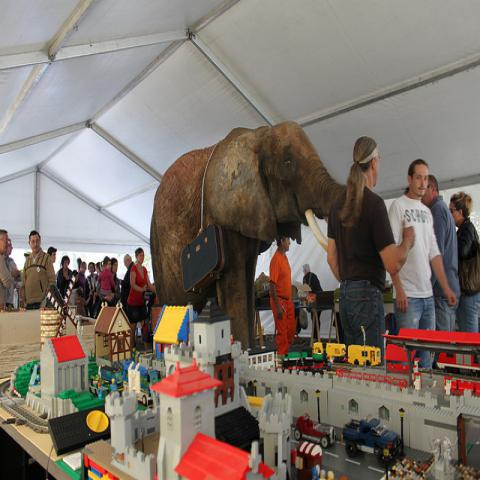car: (295, 412, 336, 450)
truck: (341, 417, 405, 470)
